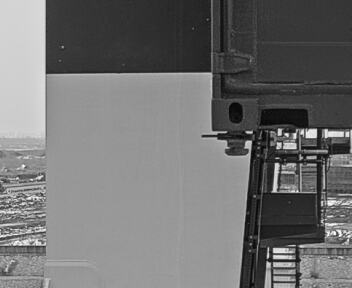twist_lock_1: (211, 124, 260, 164)
